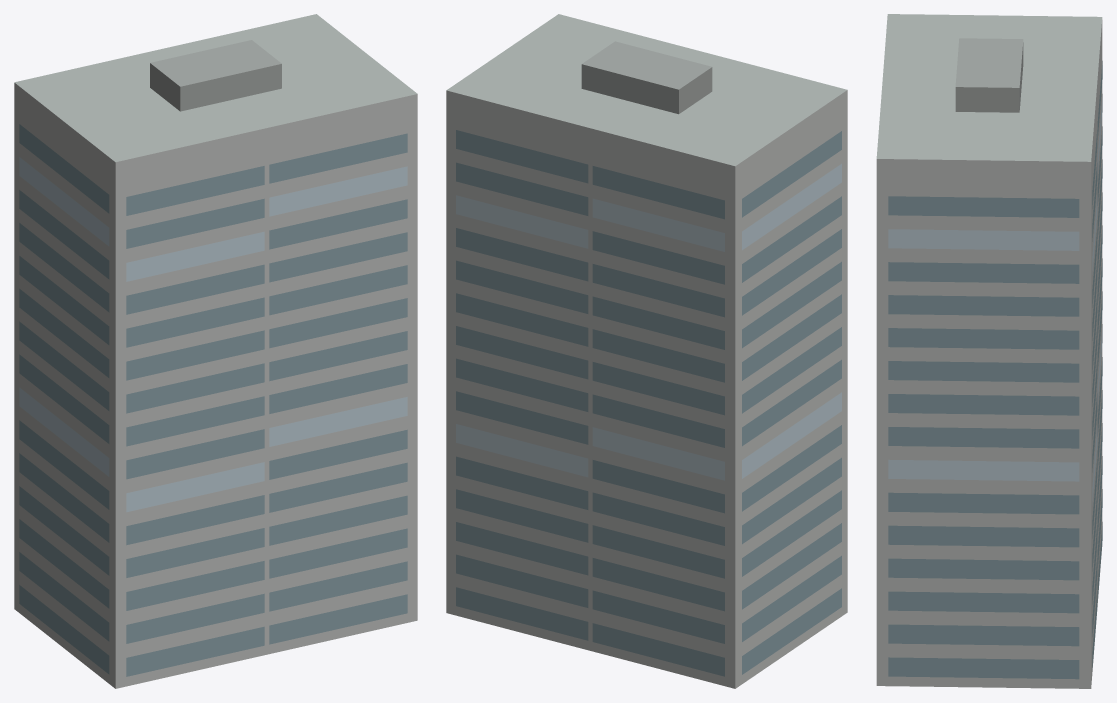
Rendered from fallback-sk-bukhansan-city-137.glb.
3 views of the same model, side by side, from view 1: azimuth 30°, elevation 25°; view 2: azimuth 150°, elevation 25°; view 3: azimuth 270°, elevation 25° (orthographic).
Parts seen in each view (by area): view 1: fallback-sk-bukhansan-city-137; view 2: fallback-sk-bukhansan-city-137; view 3: fallback-sk-bukhansan-city-137.
Boxes of the visible parts, x1,y1,x2,y2 form: fallback-sk-bukhansan-city-137: (14,14,417,688); fallback-sk-bukhansan-city-137: (446,14,847,688); fallback-sk-bukhansan-city-137: (876,14,1102,688).
Bounding box in the file's own units: 24.74 × 43 × 15.98.
